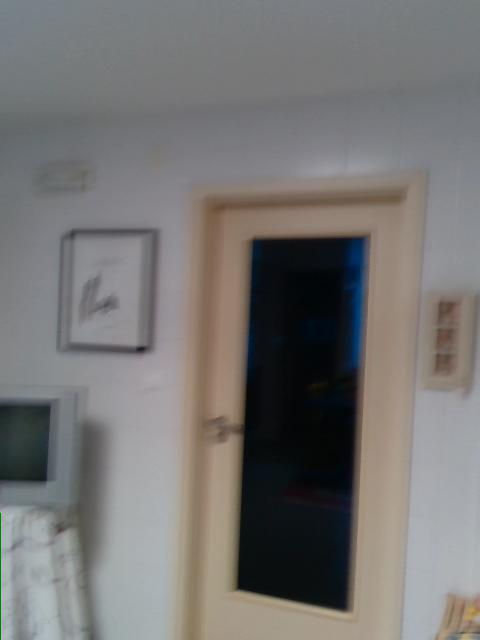door: (175, 167, 423, 639)
